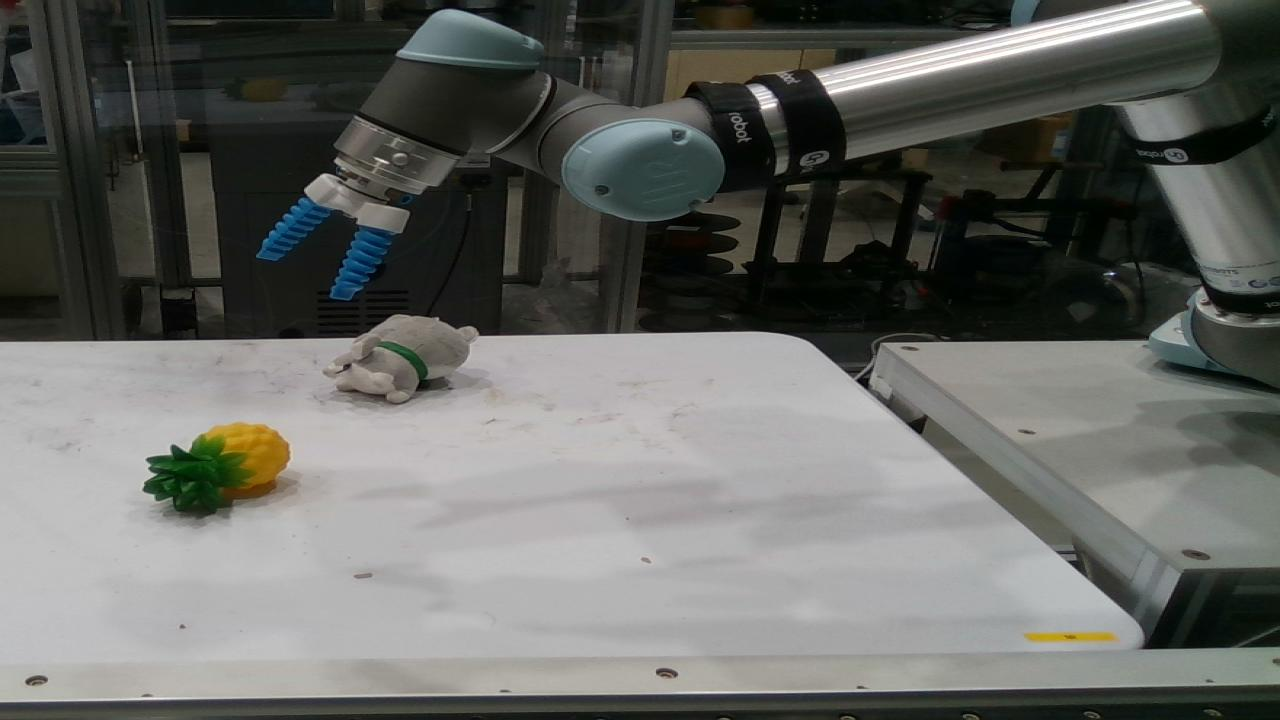UR5: (306, 0, 1260, 375)
gripper_left: (262, 199, 326, 260)
gripper_right: (334, 227, 388, 300)
target: (326, 315, 476, 404), (146, 424, 286, 514)
